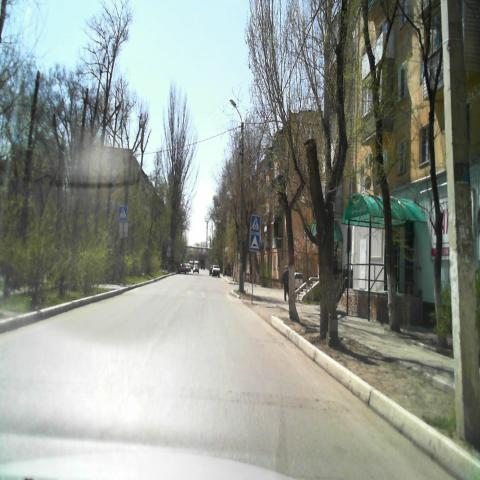5_19_1: (250, 215, 260, 232), (119, 207, 127, 221)
5_20: (249, 234, 260, 251)
